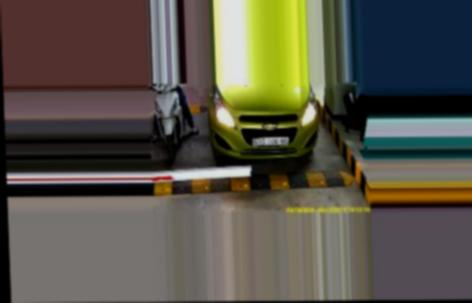License_Plate: (248, 134, 292, 148)
